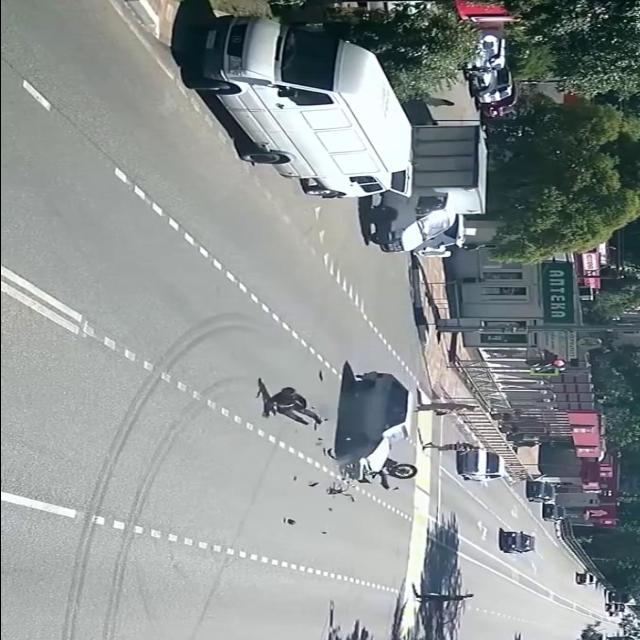accident: (264, 357, 424, 508)
non_accident: (173, 0, 523, 259)
